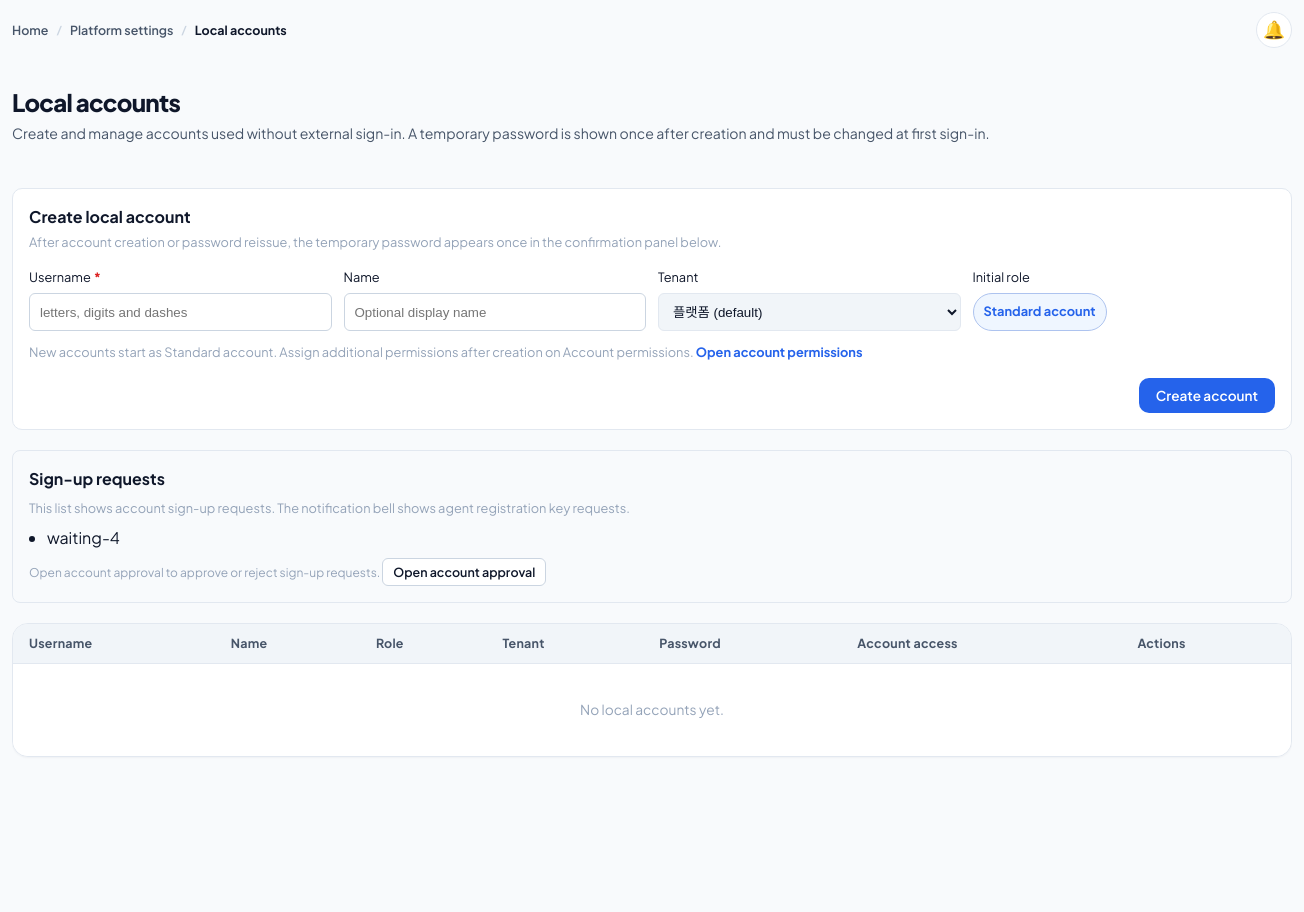
Test: opening account approval inside the console › posts nothing when a pending decision is taken back
Step 1. Click the button with test id "open-admission-approval" → (464, 572), box [382,558,546,586]
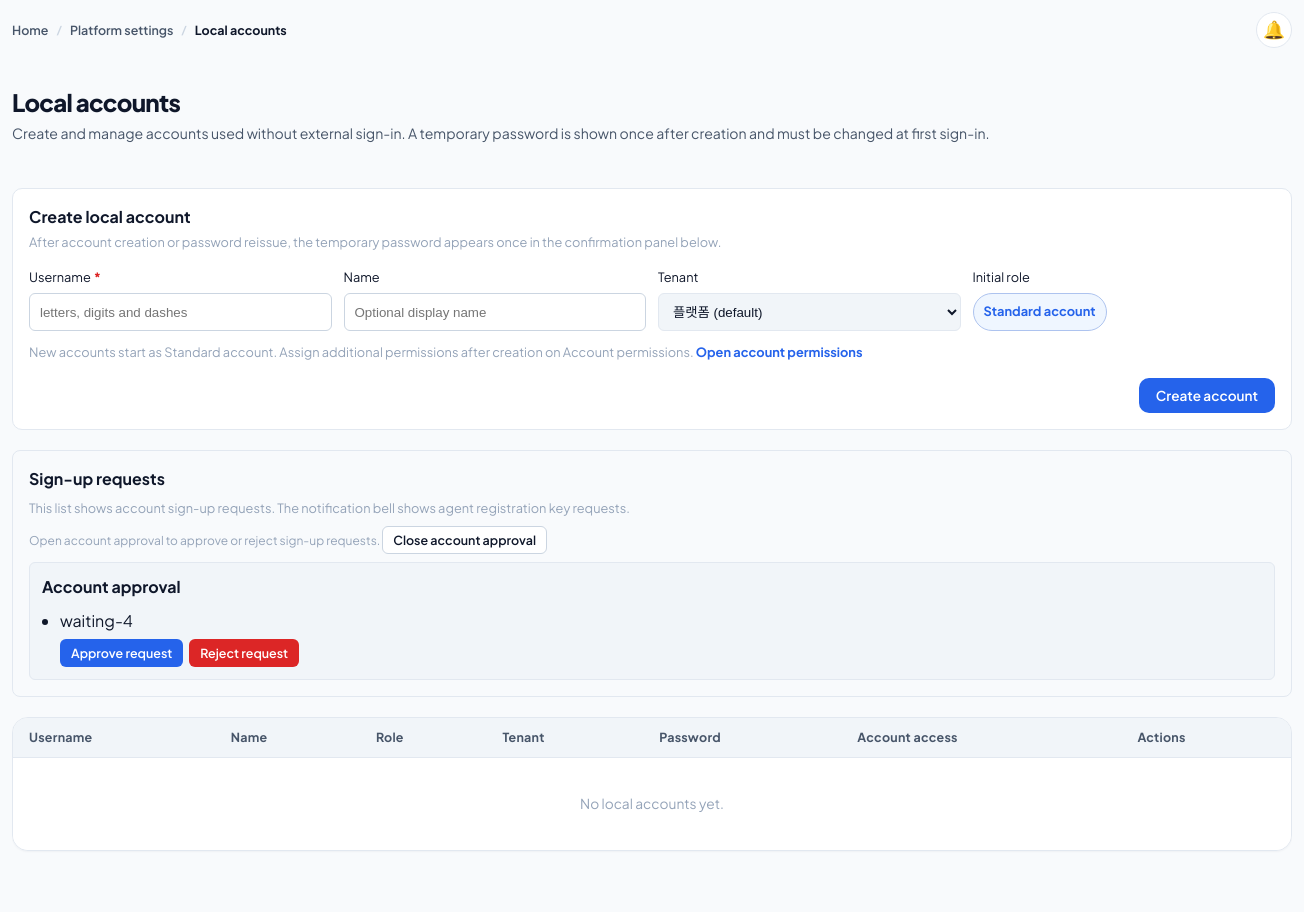
Step 2. Click the button with test id "approve-admission-waiting-4" → (122, 653), box [60,639,183,667]
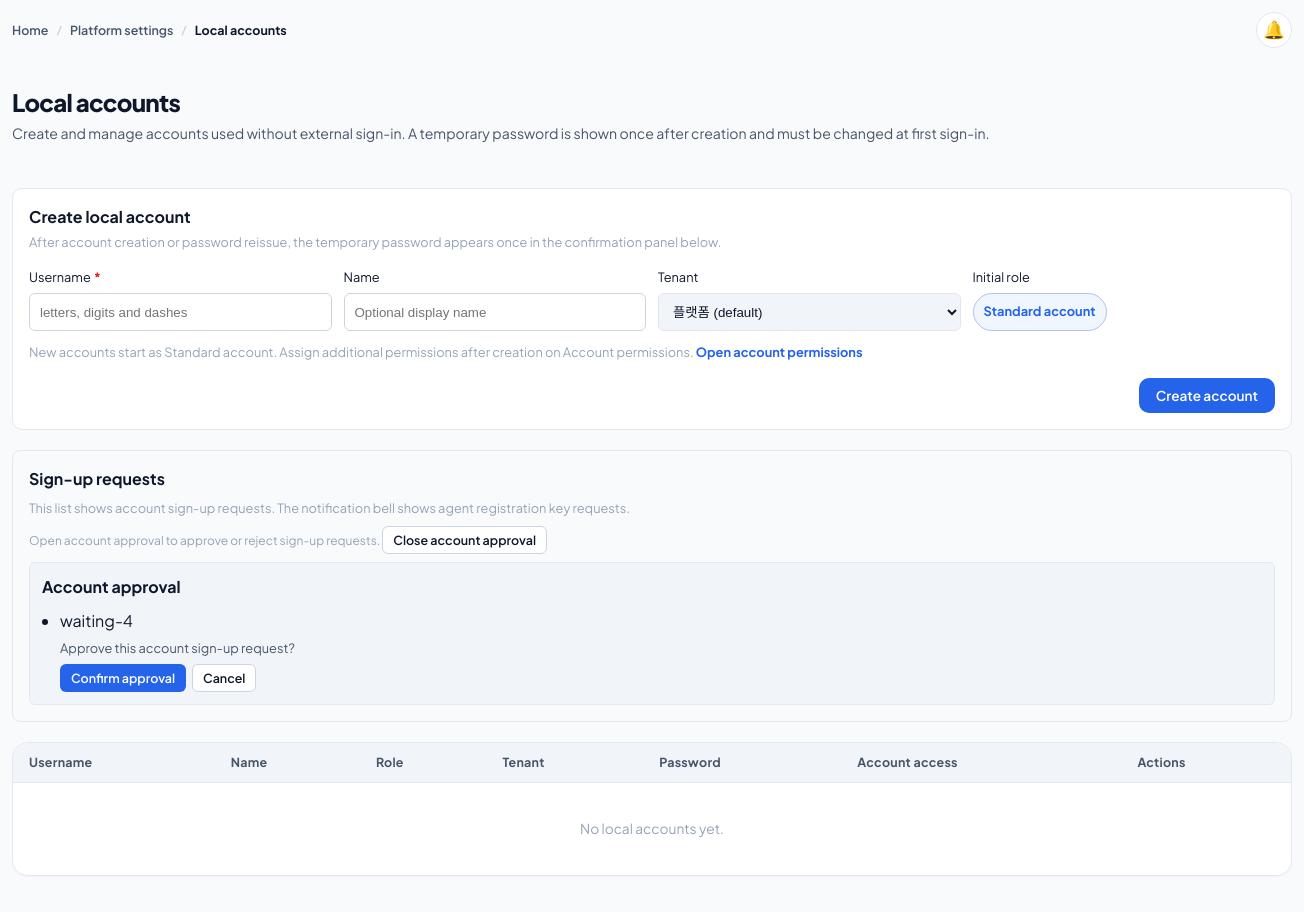
Check: the element with test id "confirm-admission-waiting-4" shows "Approve this account sign-up request?", box [60,640,295,656]
Step 3. Click the button with test id "confirm-admission-cancel-waiting-4" → (224, 678), box [192,664,256,692]
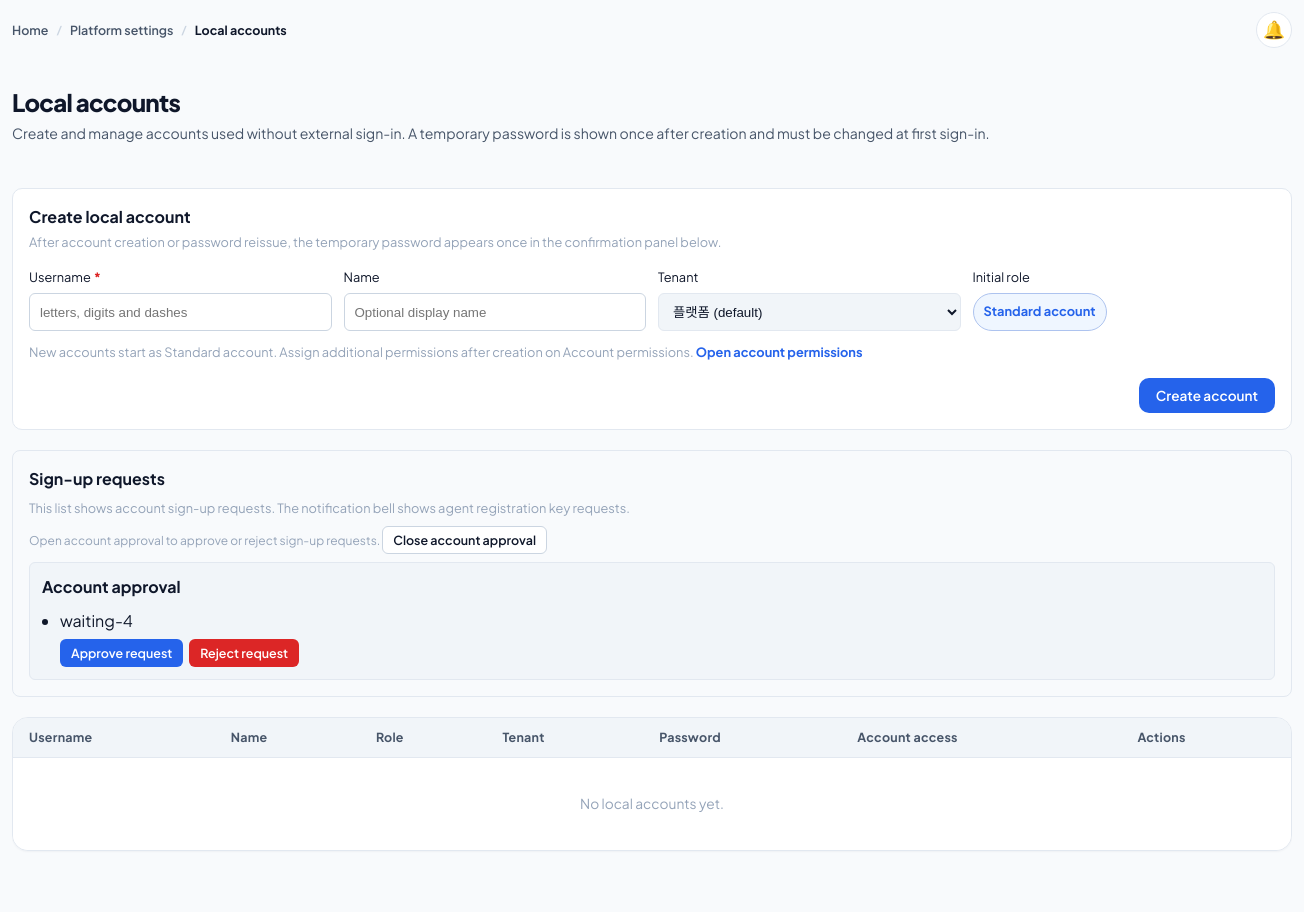
Check: the element with test id "confirm-admission-waiting-4" is gone
Check: the button with test id "approve-admission-waiting-4" is shown, box [60,639,183,667]
